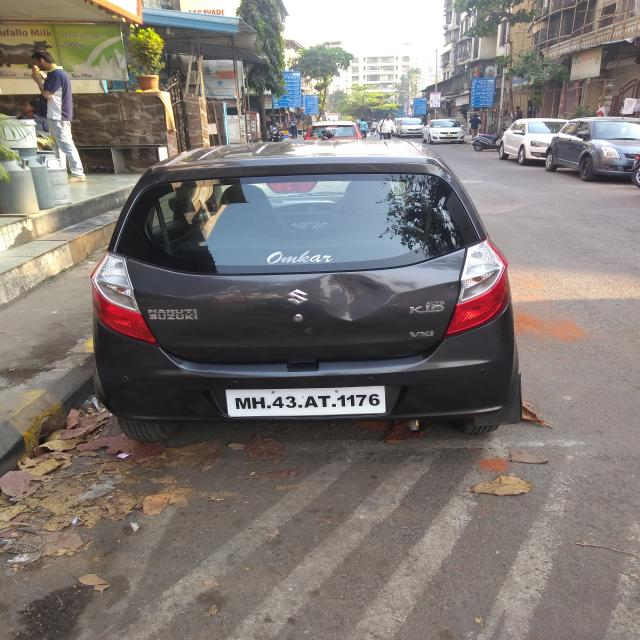Number-Plate: (235, 387, 384, 416)
